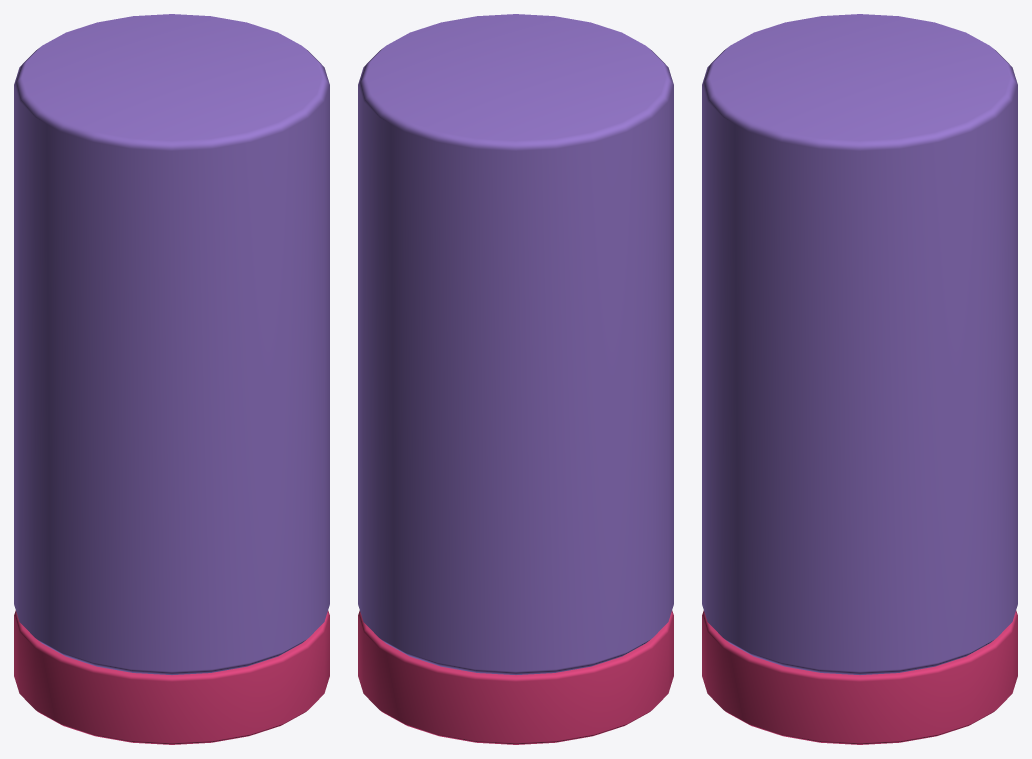
Rendered from Isl_7_Lipstick_Cap_1.fbx.
3 renders of one model, left to right at view 1: azimuth 30°, elevation 25°; view 2: azimuth 150°, elevation 25°; view 3: azimuth 270°, elevation 25°, orthographic.
Visible parts, largest first — view 1: Isl_7_Lipstick_Cap_1; view 2: Isl_7_Lipstick_Cap_1; view 3: Isl_7_Lipstick_Cap_1.
Boxes of the visible parts, <box> form: Isl_7_Lipstick_Cap_1: <box>14,14,329,744</box>; Isl_7_Lipstick_Cap_1: <box>358,14,673,744</box>; Isl_7_Lipstick_Cap_1: <box>702,14,1017,744</box>.
Size of the model in its own units: 33.85 by 71.28 by 33.85.
